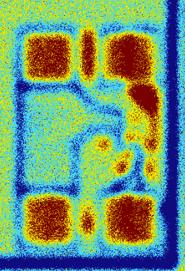Pad 3: (105, 195, 155, 245), (23, 196, 73, 246), (24, 33, 73, 83), (105, 33, 154, 81)
